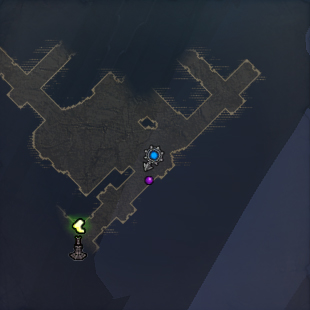SpeedPylon: (70, 217, 89, 261)
